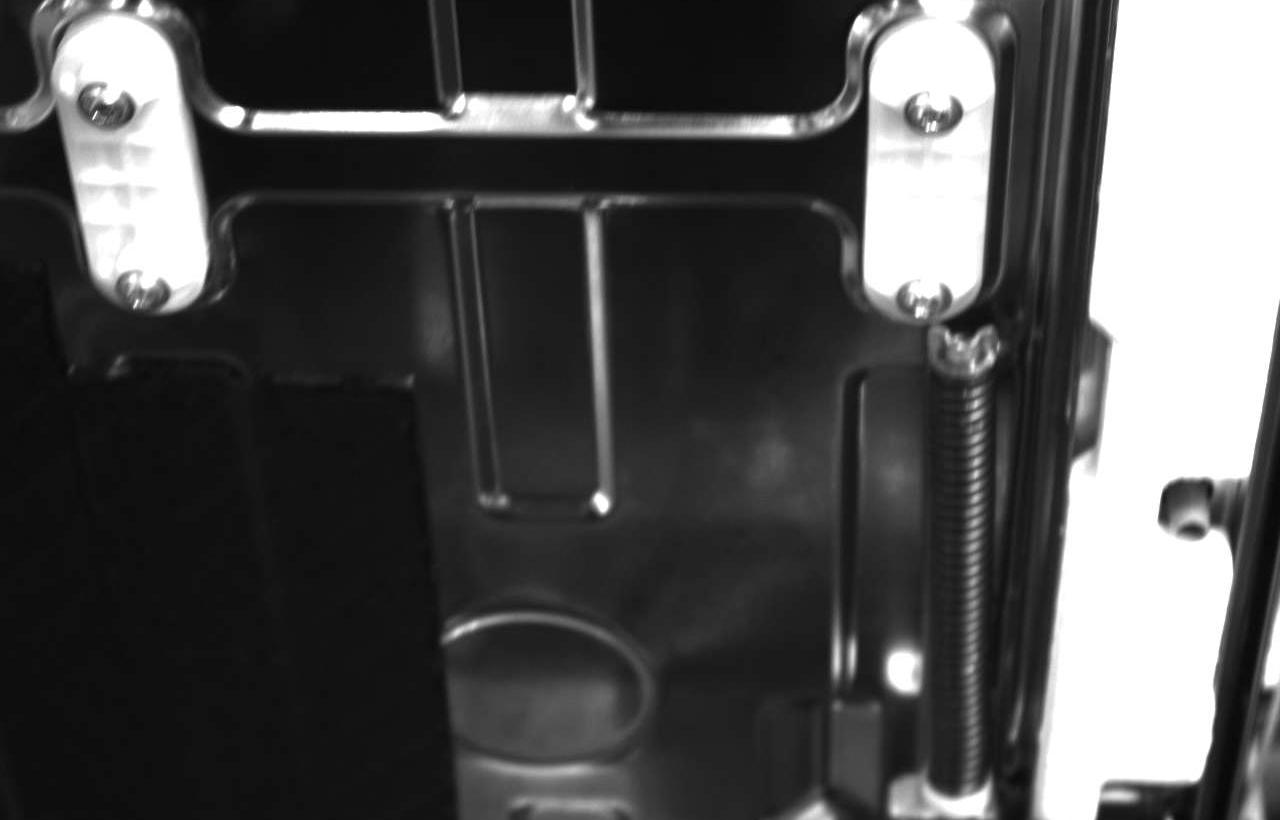vida-ok: (59, 61, 146, 139), (886, 71, 974, 144), (100, 257, 177, 322), (887, 267, 962, 325)
